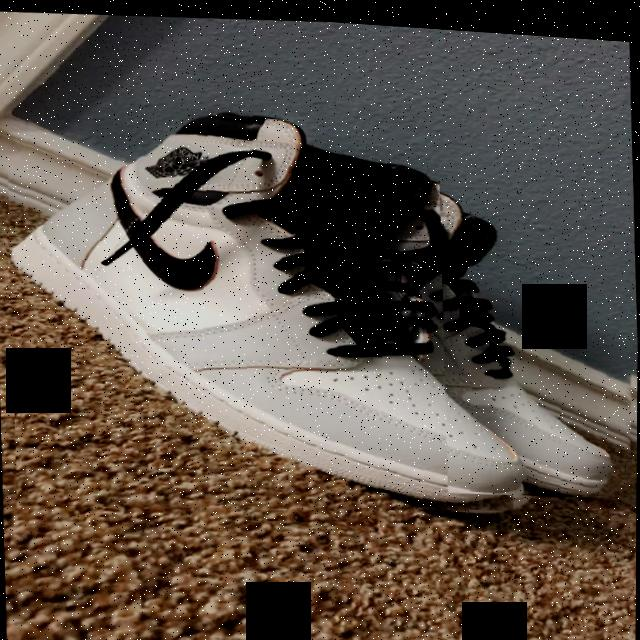shoe: (3, 76, 538, 533), (436, 145, 639, 496)
